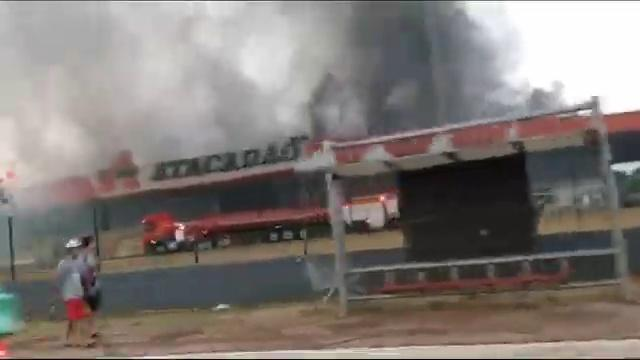smoke: (75, 16, 239, 143)
